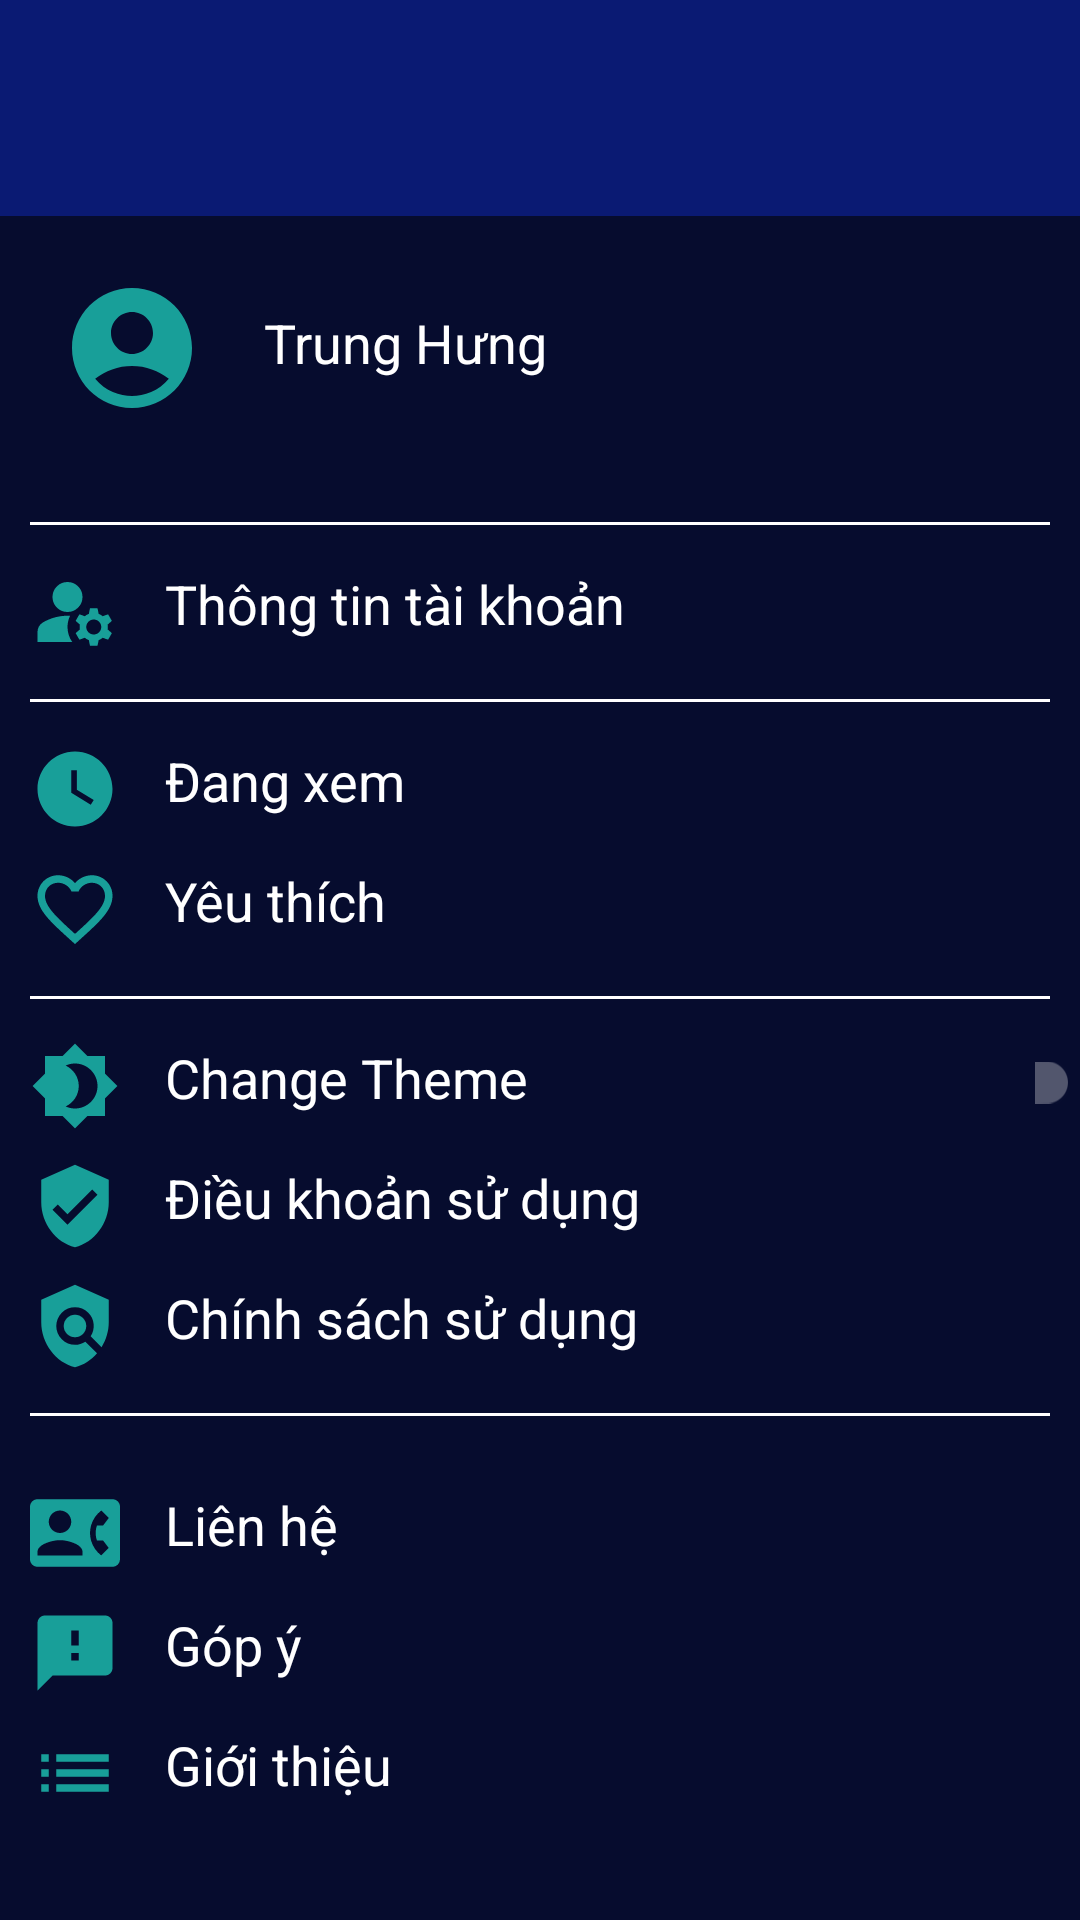

Named icons in this screenshot (1080w x 1920h) and their centers, [x,y]:
account circle: [132,348]
brightness: [75,1086]
contact phone: [75,1533]
favorite border: [75,909]
feedback: [75,1653]
list: [75,1773]
manage accounts: [74,614]
policy: [75,1326]
verified user: [75,1206]
watch later: [75,789]
